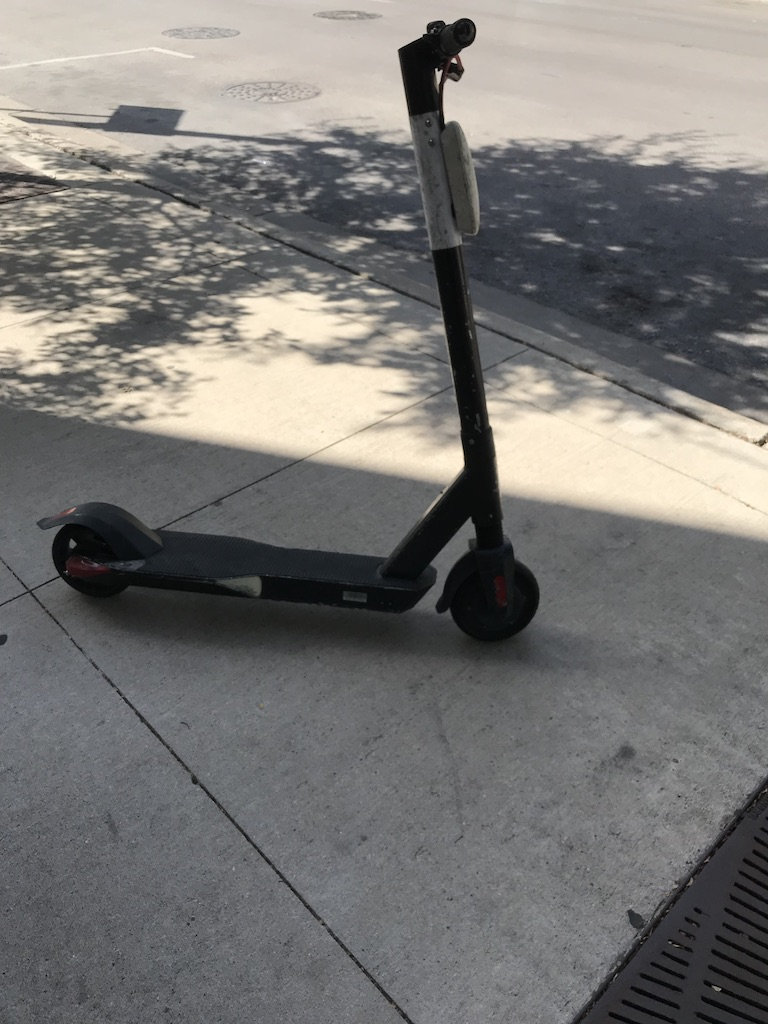scooter: (34, 18, 544, 644)
